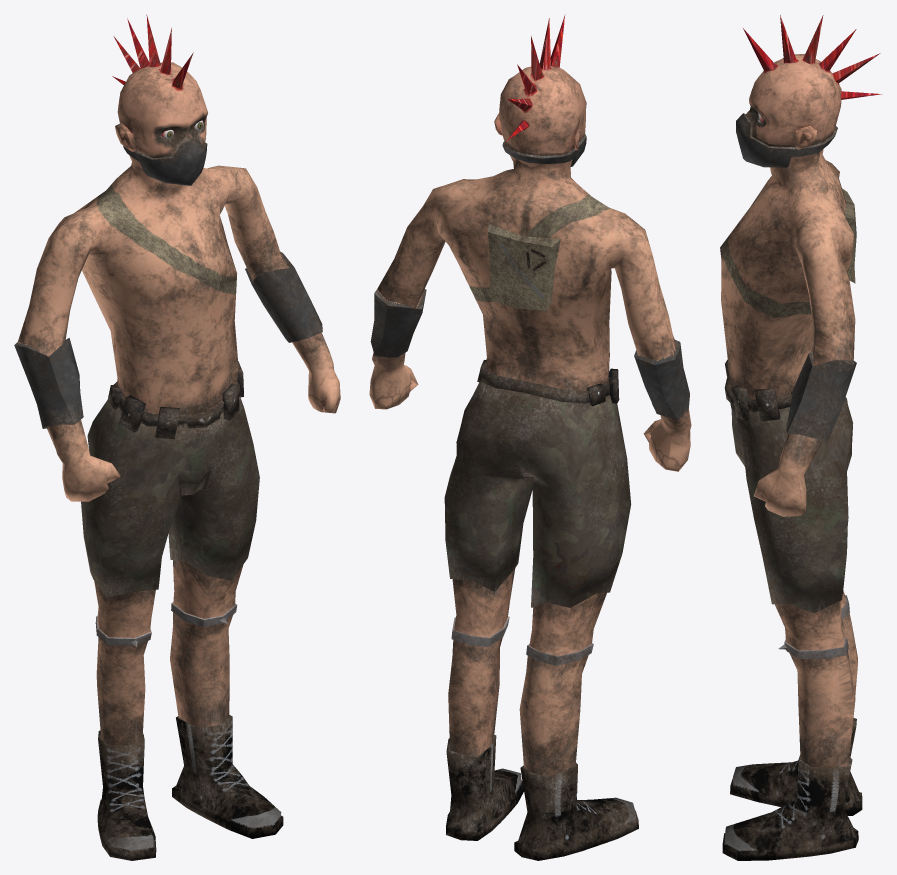
The model's file is Anim_disparar_ametralladora_npc2.0036.obj.
3 views of the same model, side by side, from view 1: azimuth 30°, elevation 25°; view 2: azimuth 150°, elevation 25°; view 3: azimuth 270°, elevation 25° (orthographic).
Parts seen in each view (by area): view 1: polySurface1; view 2: polySurface1; view 3: polySurface1.
Part boxes in pixels (left/top/right/bottom): polySurface1: left=14, top=14, right=340, bottom=860; polySurface1: left=369, top=14, right=691, bottom=860; polySurface1: left=720, top=15, right=882, bottom=860.
Size of the model in its own units: 4.1 by 10.2 by 1.87.
